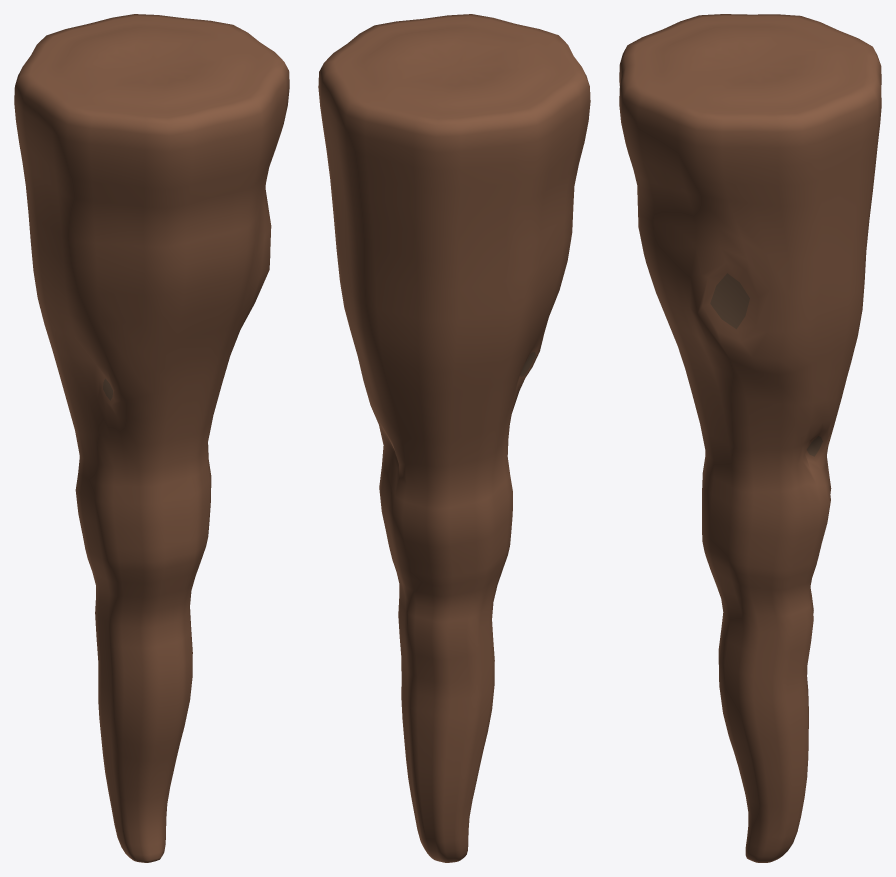
Rendered from tronco.fbx.
3 views of the same model, side by side, from view 1: azimuth 30°, elevation 25°; view 2: azimuth 150°, elevation 25°; view 3: azimuth 270°, elevation 25° (orthographic).
Parts seen in each view (by area): view 1: Tronco; view 2: Tronco; view 3: Tronco.
Part boxes in pixels (x1,y1,x2,y2): Tronco: [14, 14, 289, 862]; Tronco: [318, 14, 590, 862]; Tronco: [619, 14, 881, 862].
Size of the model in its own units: 364 by 1220 by 364.
